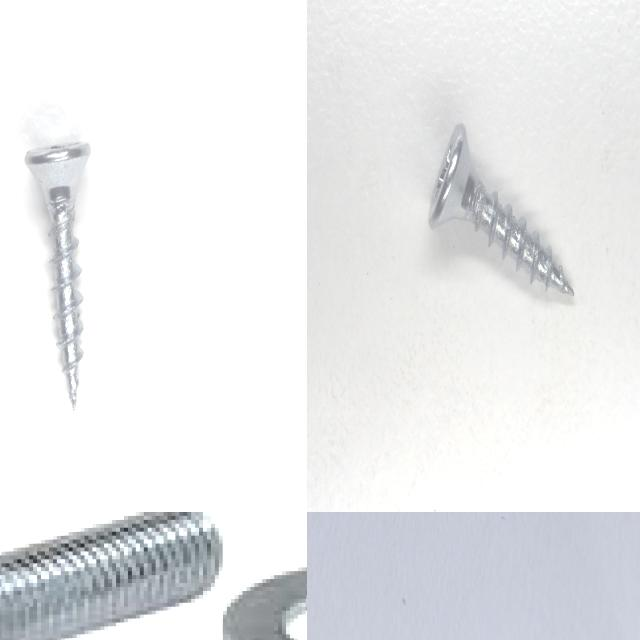Screw: (0, 512, 223, 640), (428, 122, 574, 294), (25, 140, 91, 409)
